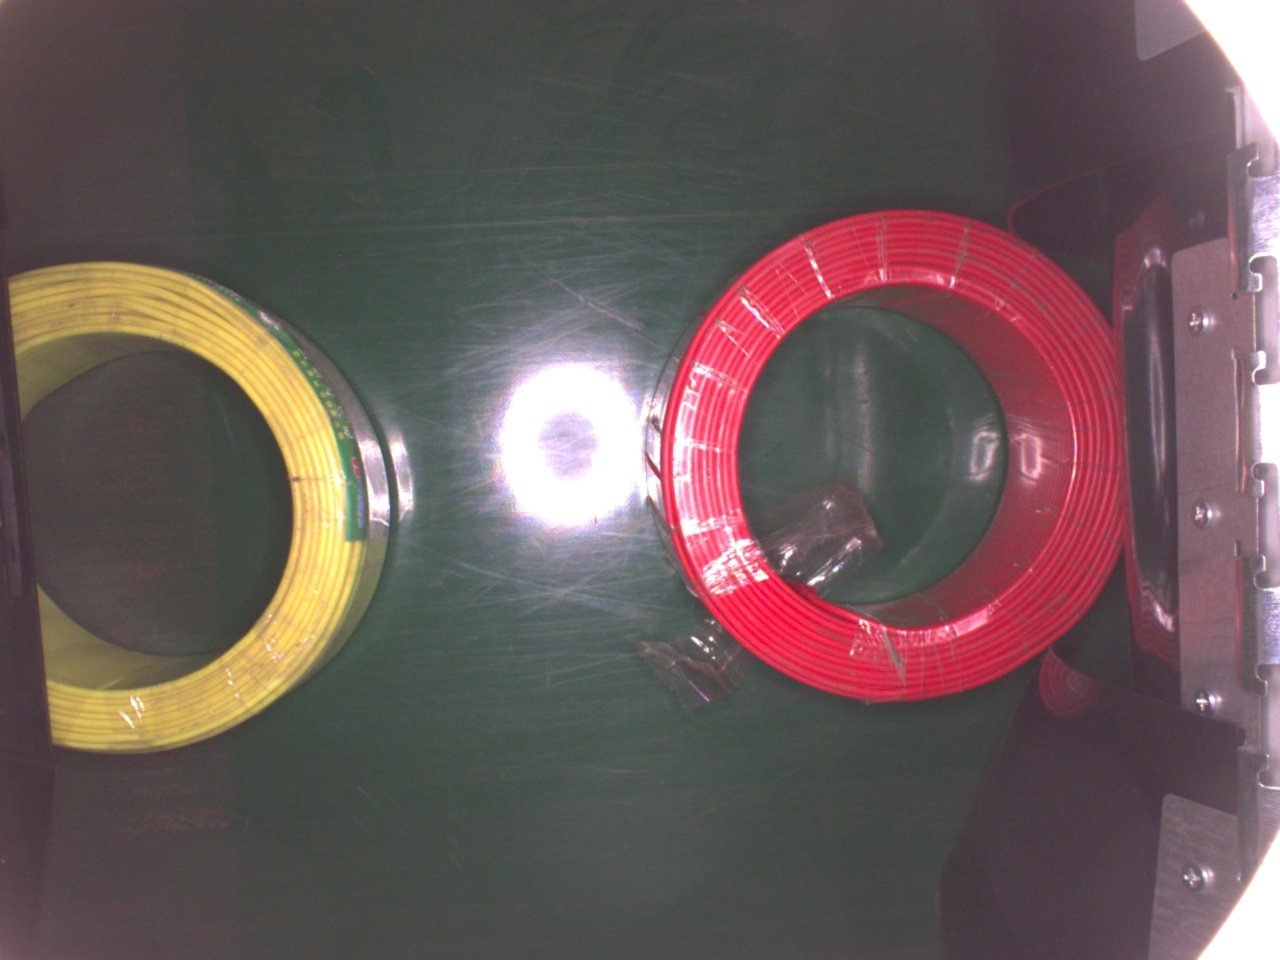red: (642, 203, 1126, 705)
yellow: (0, 262, 392, 753)
